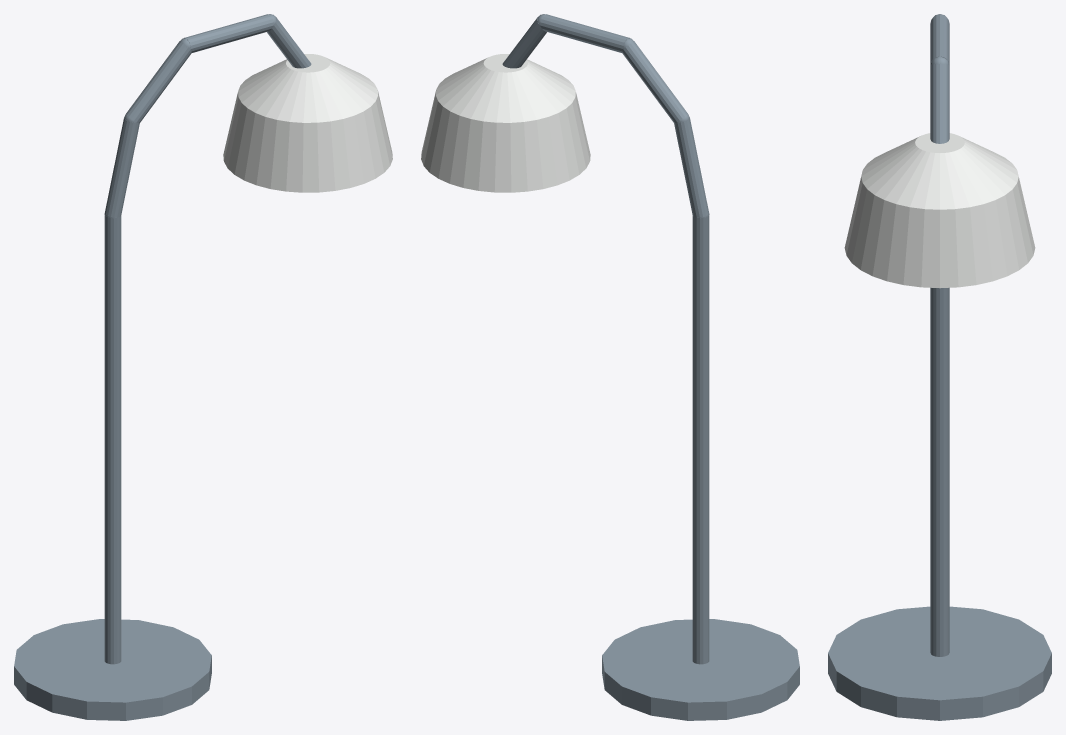
File: floor_lamp.glb
The picture shows the model from 3 angles, left to right: view 1: azimuth 30°, elevation 25°; view 2: azimuth 150°, elevation 25°; view 3: azimuth 270°, elevation 25°; orthographic projection. The views are drawn at different scales.
Parts seen in each view (by area): view 1: decor_455665_metal, decor_d8dcd8_matte; view 2: decor_455665_metal, decor_d8dcd8_matte; view 3: decor_455665_metal, decor_d8dcd8_matte.
Part boxes in pixels (x1,y1,x2,y2): decor_455665_metal: [14, 14, 311, 720]; decor_d8dcd8_matte: [223, 54, 392, 192]; decor_455665_metal: [502, 14, 799, 720]; decor_d8dcd8_matte: [421, 54, 590, 192]; decor_455665_metal: [828, 14, 1051, 720]; decor_d8dcd8_matte: [844, 133, 1035, 288].
Size of the model in its own units: 1.11 by 1.87 by 0.54.
